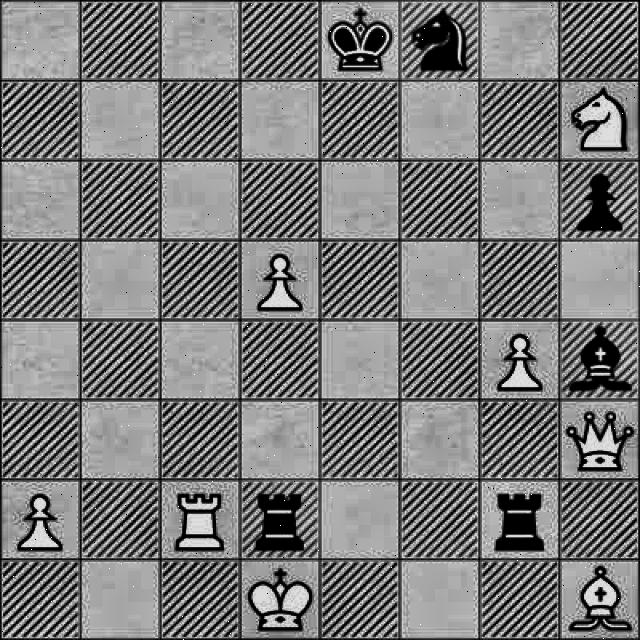Black Knight: (406, 0, 472, 80)
black bishop: (567, 324, 639, 398)
black king: (322, 1, 396, 76)
black pawn: (563, 165, 640, 241)
black rook: (485, 480, 555, 558), (246, 494, 318, 559)
white bishop: (562, 561, 640, 639)
white king: (248, 560, 316, 639)
white pawn: (6, 479, 74, 557), (484, 328, 554, 394), (245, 248, 312, 314)
white queen: (563, 402, 637, 478)
white rook: (169, 482, 239, 556)
whiteknight: (560, 79, 634, 158)
